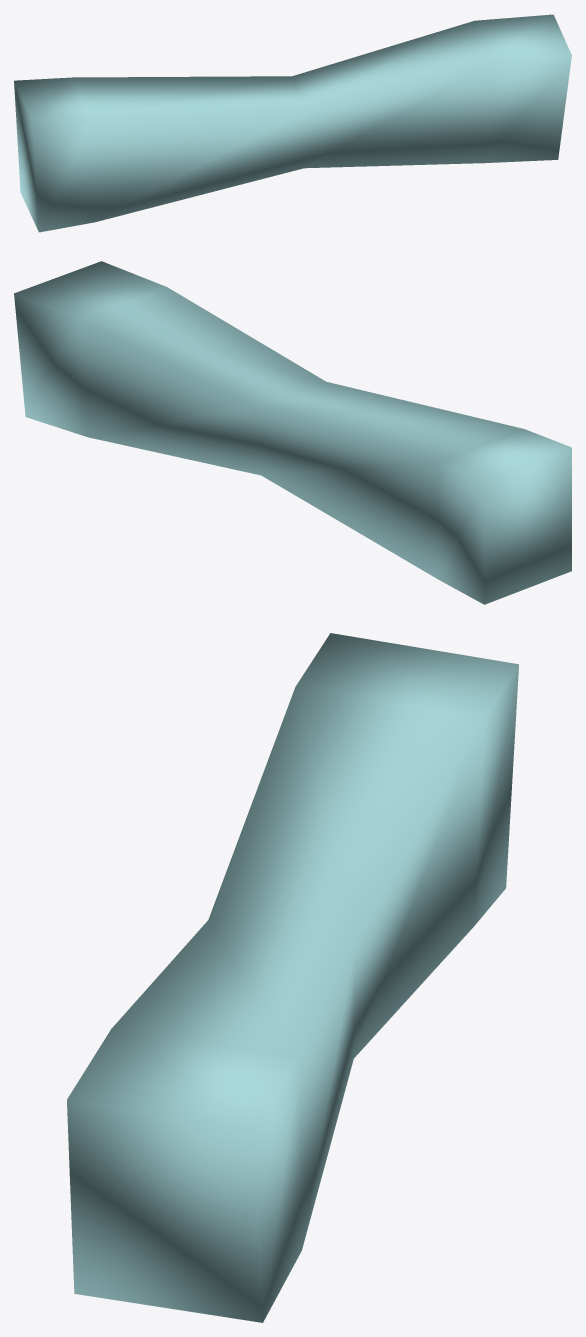
Rendered from Skelly_palm.04.R.fbx.
3 renders of one model, top to bottom at view 1: azimuth 30°, elevation 25°; view 2: azimuth 150°, elevation 25°; view 3: azimuth 270°, elevation 25°, orthographic. The views are drawn at different scales.
Parts seen in each view (by area): view 1: Skelly_palm.04.R; view 2: Skelly_palm.04.R; view 3: Skelly_palm.04.R.
Boxes of the visible parts, x1,y1,x2,y2 form: Skelly_palm.04.R: (14,14,571,232); Skelly_palm.04.R: (14,261,571,604); Skelly_palm.04.R: (67,633,518,1322).
Size of the model in its own units: 7.38 by 1.57 by 2.88.
